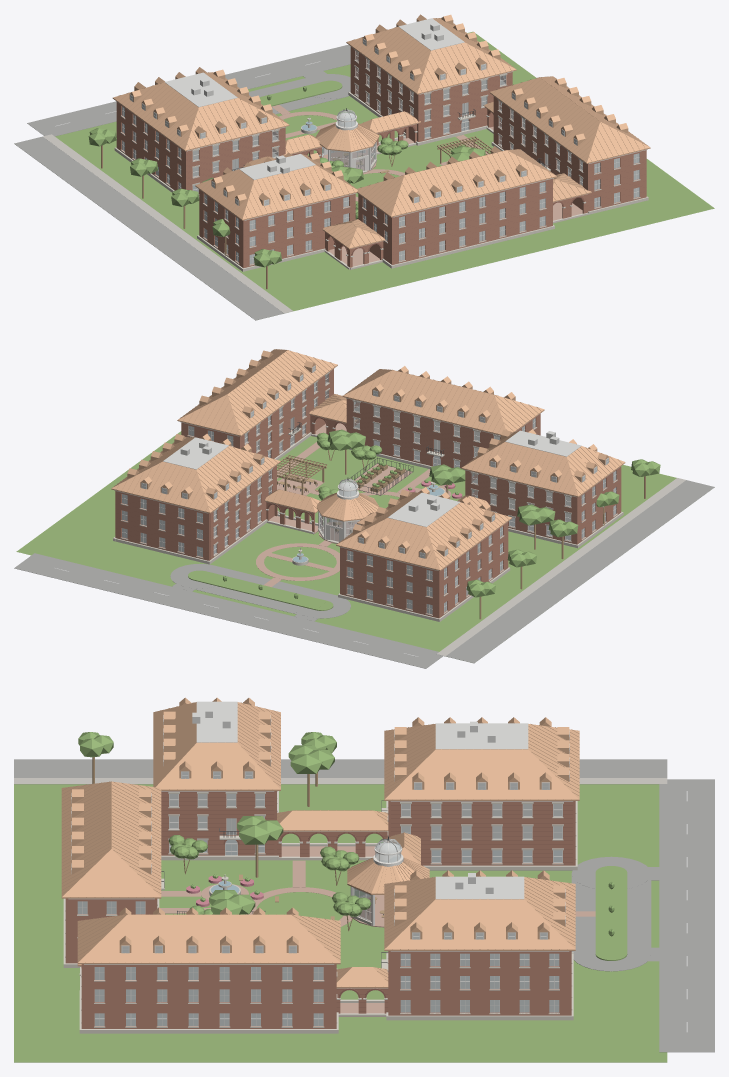
Rendered from clay-garden-court-senior-residence-clay-v003.glb.
3 renders of one model, top to bottom at view 1: azimuth 30°, elevation 25°; view 2: azimuth 150°, elevation 25°; view 3: azimuth 270°, elevation 25°, orthographic. The views are drawn at different scales.
Parts seen in each view (by area): view 1: CLAY_ROOF, CLAY_WALL, CLAY_LAWN, CLAY_FOUNDATION, CLAY_TRIM, CLAY_GLASS, CLAY_STONE, CLAY_MEMBRANE, CLAY_PLANTING, CLAY_CONCRETE, CLAY_SAND, CLAY_FLOOR (+1 smaller); view 2: CLAY_ROOF, CLAY_WALL, CLAY_LAWN, CLAY_FOUNDATION, CLAY_TRIM, CLAY_GLASS, CLAY_STONE, CLAY_PLANTING, CLAY_SAND, CLAY_MEMBRANE, CLAY_CONCRETE, CLAY_TIMBER (+2 smaller); view 3: CLAY_LAWN, CLAY_ROOF, CLAY_WALL, CLAY_FOUNDATION, CLAY_TRIM, CLAY_GLASS, CLAY_STONE, CLAY_PLANTING, CLAY_MEMBRANE, CLAY_JOINT, CLAY_SAND, CLAY_FLOOR (+2 smaller).
Part boxes in pixels (x1=…): CLAY_ROOF: x1=112, y1=14, x2=650, y2=249; CLAY_WALL: x1=116, y1=46, x2=646, y2=268; CLAY_LAWN: x1=55, y1=31, x2=714, y2=311; CLAY_FOUNDATION: x1=14, y1=44, x2=513, y2=320; CLAY_TRIM: x1=122, y1=38, x2=647, y2=264; CLAY_GLASS: x1=122, y1=39, x2=639, y2=264; CLAY_STONE: x1=114, y1=49, x2=648, y2=271; CLAY_MEMBRANE: x1=55, y1=18, x2=464, y2=179; CLAY_PLANTING: x1=88, y1=86, x2=485, y2=267; CLAY_CONCRETE: x1=43, y1=134, x2=292, y2=313; CLAY_SAND: x1=271, y1=104, x2=582, y2=269; CLAY_FLOOR: x1=193, y1=59, x2=582, y2=184; CLAY_ROOF: x1=111, y1=349, x2=625, y2=570; CLAY_WALL: x1=115, y1=369, x2=621, y2=618; CLAY_LAWN: x1=16, y1=431, x2=676, y2=651; CLAY_FOUNDATION: x1=14, y1=425, x2=714, y2=668; CLAY_TRIM: x1=114, y1=365, x2=619, y2=614; CLAY_GLASS: x1=122, y1=367, x2=616, y2=614; CLAY_STONE: x1=113, y1=372, x2=623, y2=621; CLAY_PLANTING: x1=223, y1=429, x2=660, y2=598; CLAY_SAND: x1=256, y1=423, x2=453, y2=586; CLAY_MEMBRANE: x1=54, y1=430, x2=581, y2=656; CLAY_CONCRETE: x1=437, y1=478, x2=685, y2=656; CLAY_TIMBER: x1=225, y1=449, x2=645, y2=619; CLAY_LAWN: x1=14, y1=784, x2=667, y2=1062; CLAY_ROOF: x1=61, y1=697, x2=579, y2=988; CLAY_WALL: x1=65, y1=791, x2=575, y2=1028; CLAY_FOUNDATION: x1=14, y1=759, x2=714, y2=1052; CLAY_TRIM: x1=68, y1=715, x2=573, y2=1026; CLAY_GLASS: x1=77, y1=772, x2=562, y2=1025; CLAY_STONE: x1=63, y1=791, x2=577, y2=1033; CLAY_PLANTING: x1=78, y1=732, x2=614, y2=936; CLAY_MEMBRANE: x1=192, y1=701, x2=687, y2=1032; CLAY_JOINT: x1=81, y1=792, x2=572, y2=1011; CLAY_SAND: x1=160, y1=846, x2=595, y2=1016; CLAY_FLOOR: x1=145, y1=794, x2=562, y2=1001.
Size of the model in its own units: 90 by 15.05 by 88.
